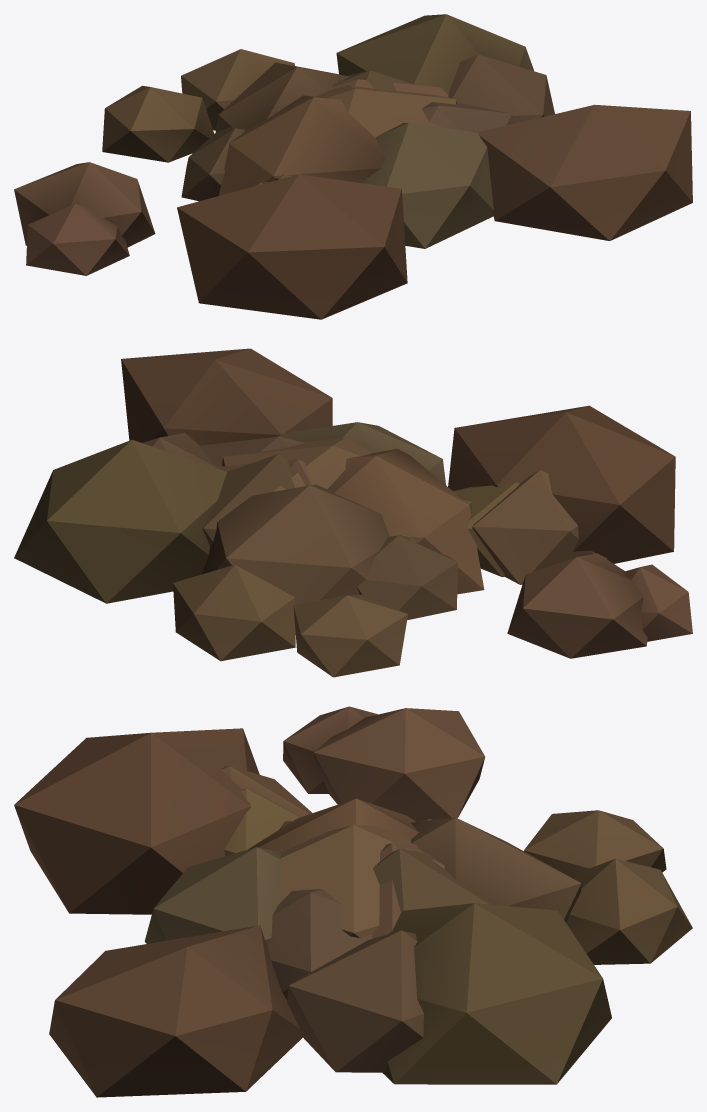
The model's file is debris_desert.glb.
3 views of the same model, one above another, from view 1: azimuth 30°, elevation 25°; view 2: azimuth 150°, elevation 25°; view 3: azimuth 270°, elevation 25° (orthographic). The views are drawn at different scales.
Parts seen in each view (by area): view 1: v1, v2, v0; view 2: v1, v2, v0; view 3: v1, v2, v0.
Boxes of the visible parts, left/top/right/bottom form: v1: left=102, top=14, right=554, bottom=248; v2: left=14, top=70, right=448, bottom=319; v0: left=181, top=49, right=692, bottom=240; v1: left=14, top=422, right=484, bottom=677; v2: left=202, top=405, right=692, bottom=658; v0: left=121, top=348, right=472, bottom=661; v1: left=144, top=798, right=666, bottom=1084; v2: left=14, top=706, right=492, bottom=938; v0: left=49, top=818, right=692, bottom=1097.
Bounding box in the file's own units: 0.5951 × 0.1073 × 0.4594.
